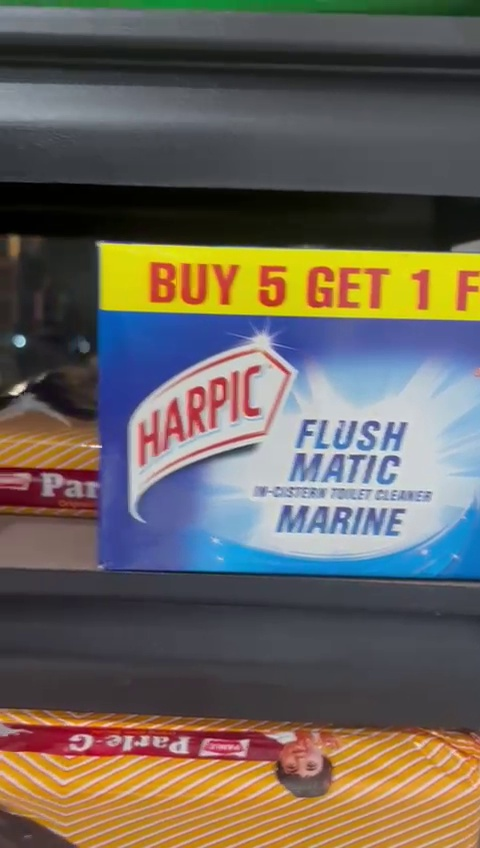Harpic: (100, 248, 480, 579)
